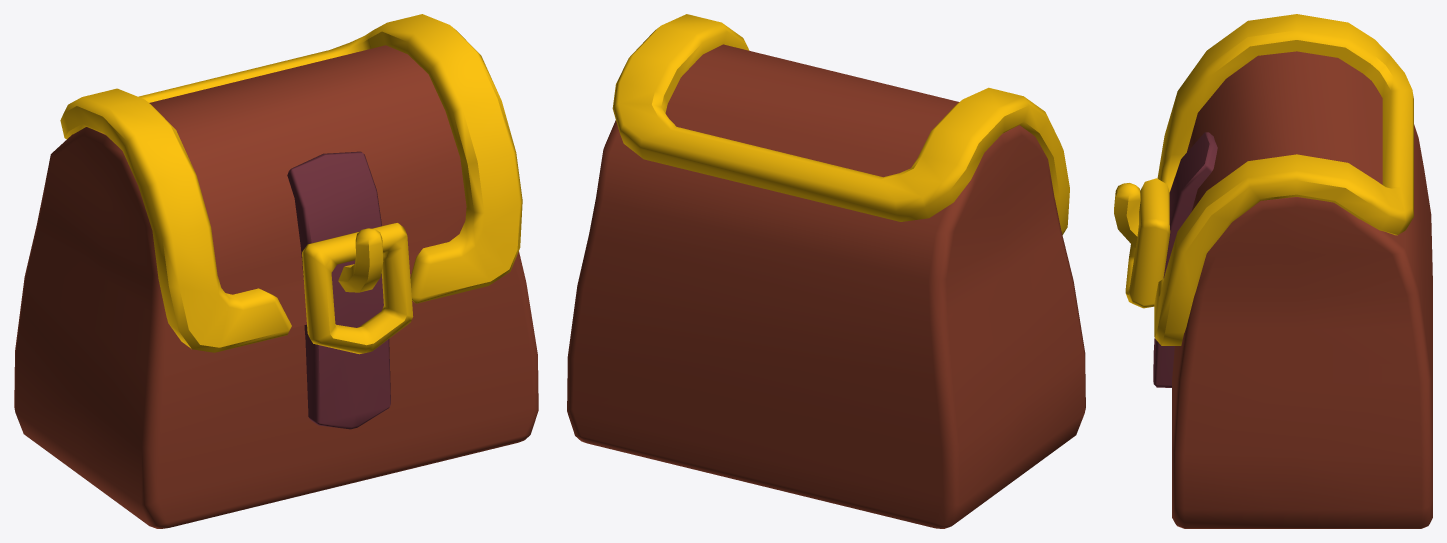
3 views of the same model, side by side, from view 1: azimuth 30°, elevation 25°; view 2: azimuth 150°, elevation 25°; view 3: azimuth 270°, elevation 25° (orthographic). The views are drawn at different scales.
Visible parts, largest first — view 1: model_0.003; view 2: model_0.003; view 3: model_0.003.
Part boxes in pixels (left/top/right/bottom): model_0.003: left=14, top=14, right=538, bottom=528; model_0.003: left=567, top=14, right=1085, bottom=528; model_0.003: left=1114, top=14, right=1432, bottom=528.
Size of the model in its own units: 3.55 by 3.22 by 2.63.
